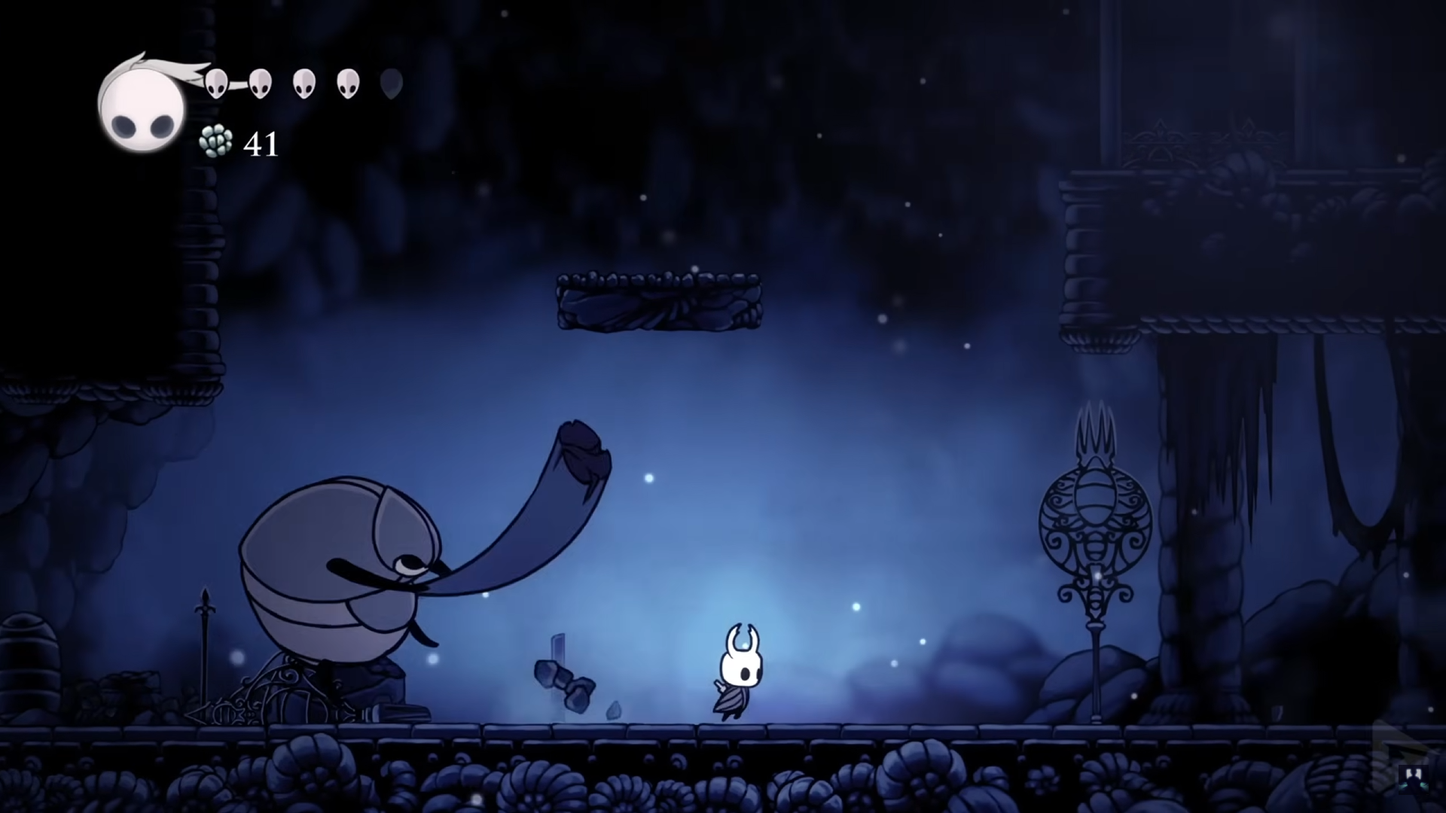HK: (707, 621, 770, 723)
